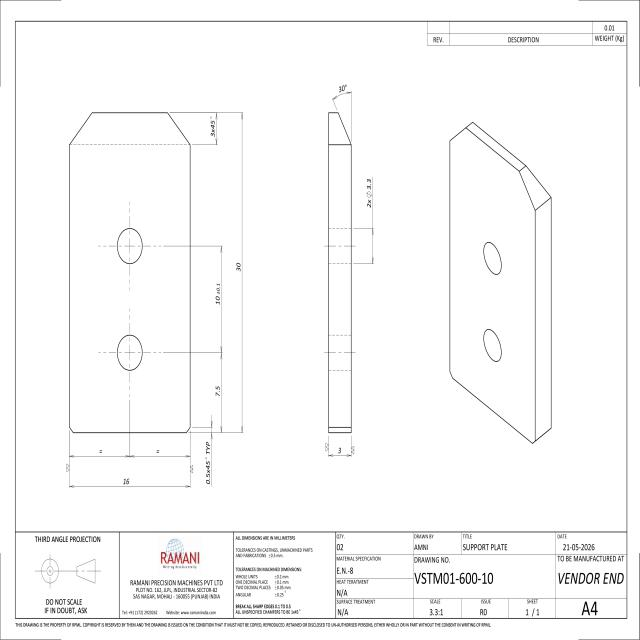dimension: (204, 440, 212, 486), (364, 178, 373, 209), (214, 282, 221, 307), (210, 115, 217, 138), (337, 82, 349, 94), (122, 476, 130, 486), (215, 384, 221, 397), (235, 262, 241, 273), (337, 446, 342, 456)
